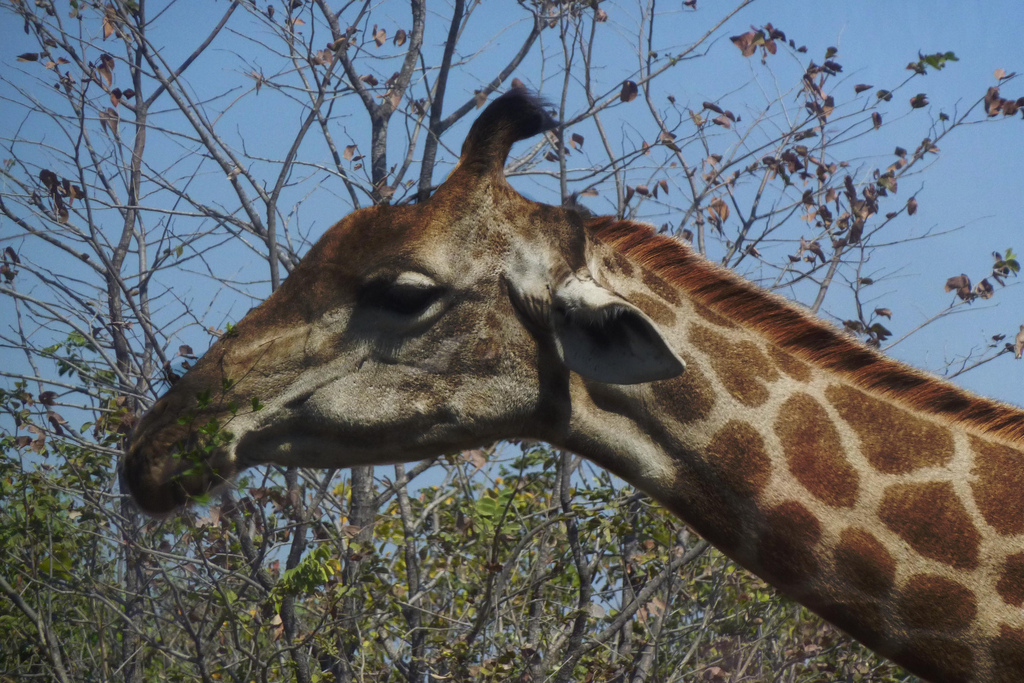giraffe: (84, 111, 983, 653)
